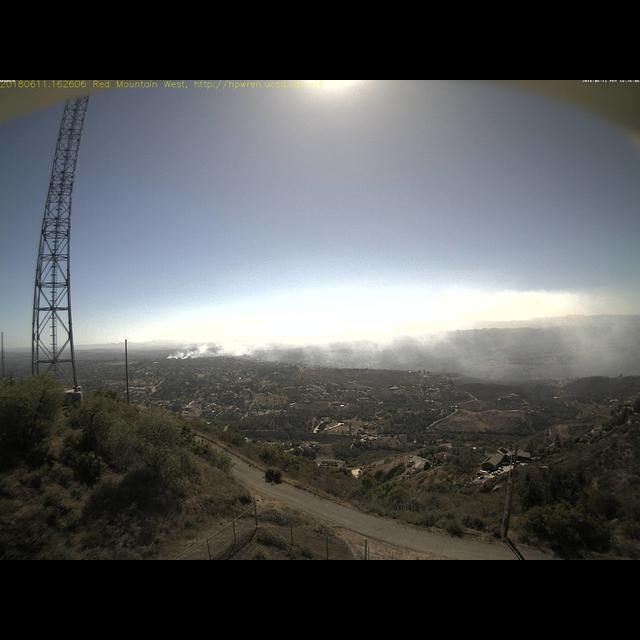Smoke: (162, 290, 635, 382)
